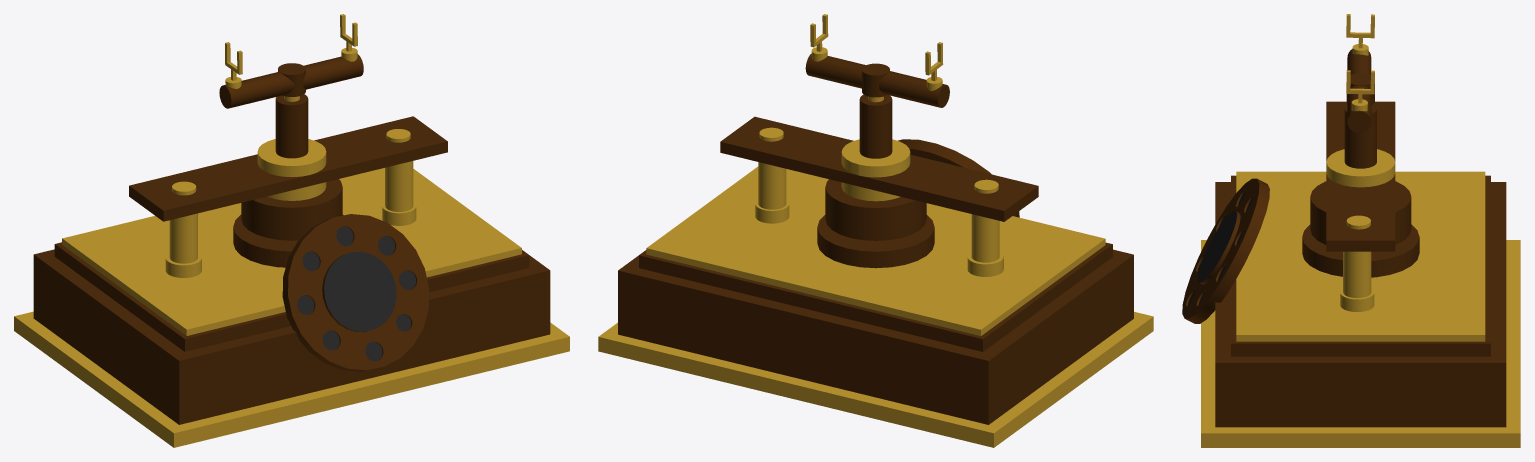
Rendered from Telefoon.fbx.
3 views of the same model, side by side, from view 1: azimuth 30°, elevation 25°; view 2: azimuth 150°, elevation 25°; view 3: azimuth 270°, elevation 25° (orthographic).
Parts seen in each view (by area): view 1: Model; view 2: Model; view 3: Model.
Part boxes in pixels (left/top/right/bottom): Model: left=14, top=14, right=569, bottom=447; Model: left=598, top=14, right=1153, bottom=447; Model: left=1182, top=14, right=1520, bottom=447.
Size of the model in its own units: 226 by 168 by 167.
